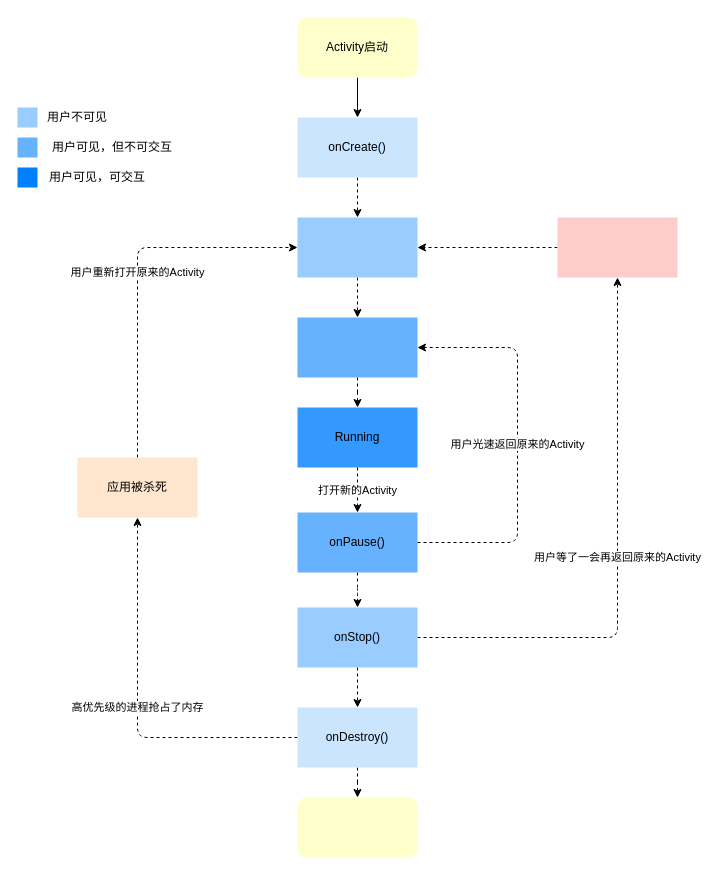
The diagram is 718 pixels wide and 874 high, and some of its shapes have lost their labels. The shapes that lost their labels are listed below. From the top down, each one's box as (x1, y1, x2, y2) in pixels, then its label:
(297, 217, 417, 277): onStart()
(557, 217, 677, 277): onRestart()
(297, 317, 417, 377): onResume()
(297, 797, 417, 857): Activity销毁
